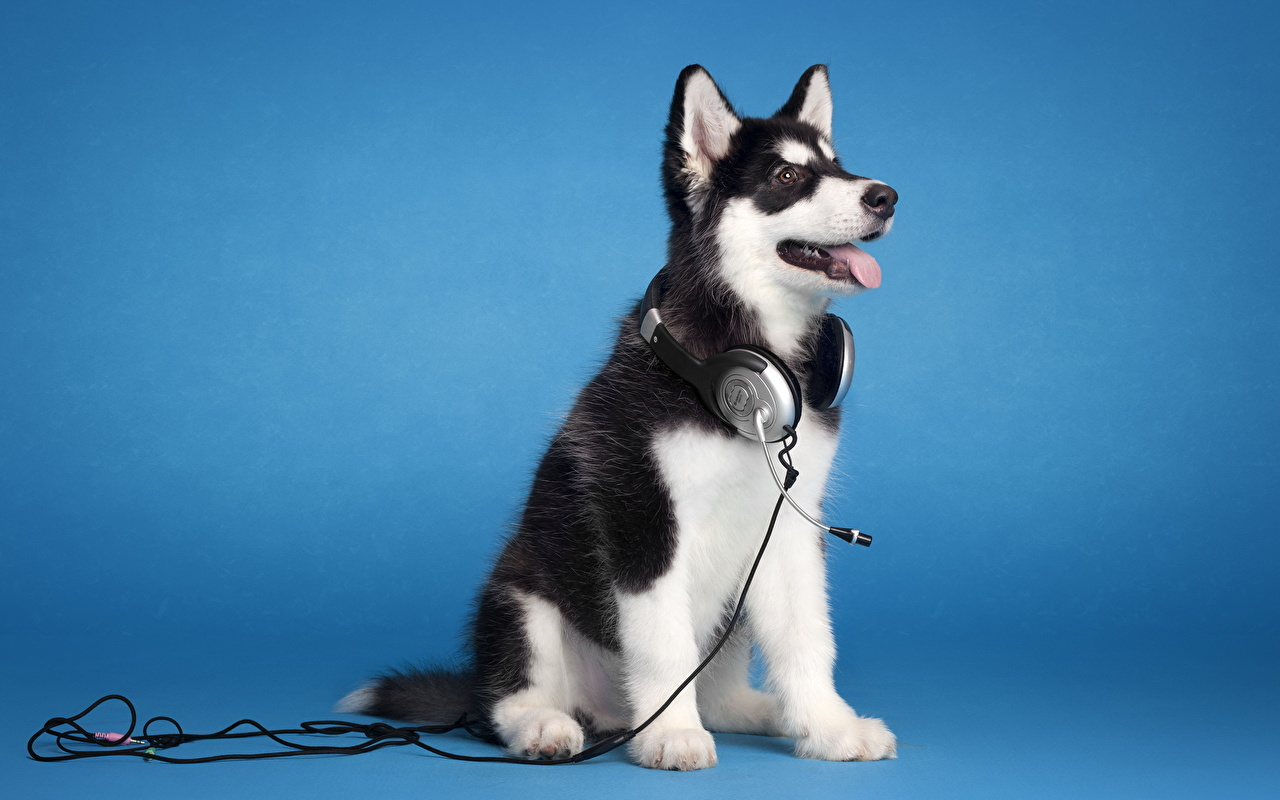husky: (471, 30, 890, 762)
